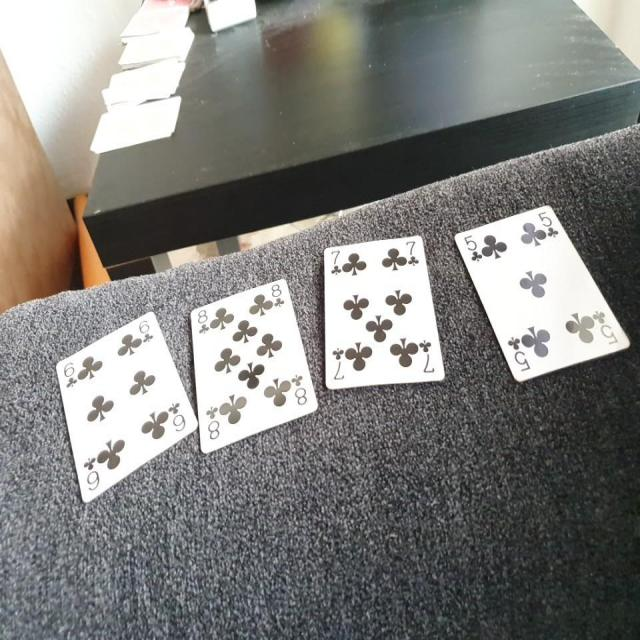5 Trefoils: (452, 202, 633, 389)
6 Trefoils: (55, 309, 198, 506)
7 Trefoils: (322, 234, 447, 392)
8 Trefoils: (187, 276, 321, 458)
